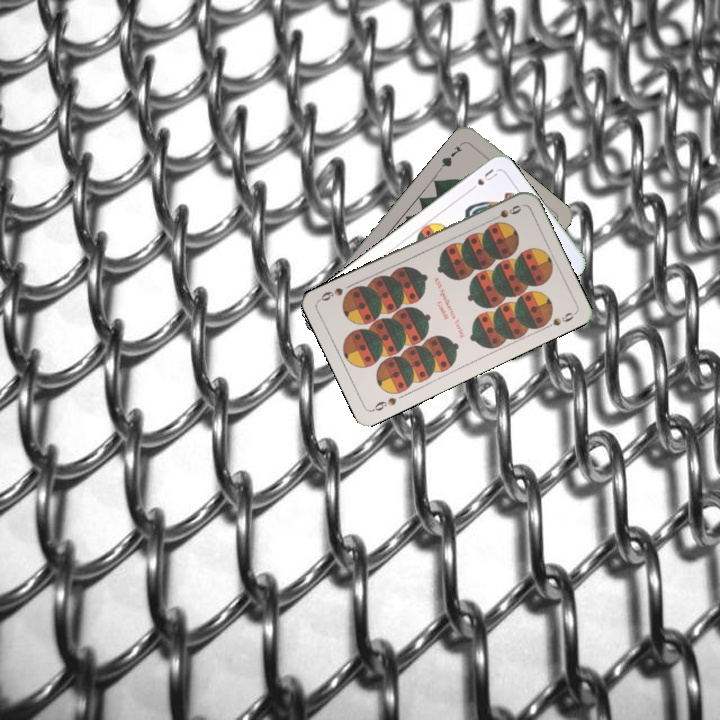G7: (436, 142, 465, 172)
S9: (486, 201, 524, 224), (368, 393, 399, 414)
SU: (464, 164, 500, 195)
